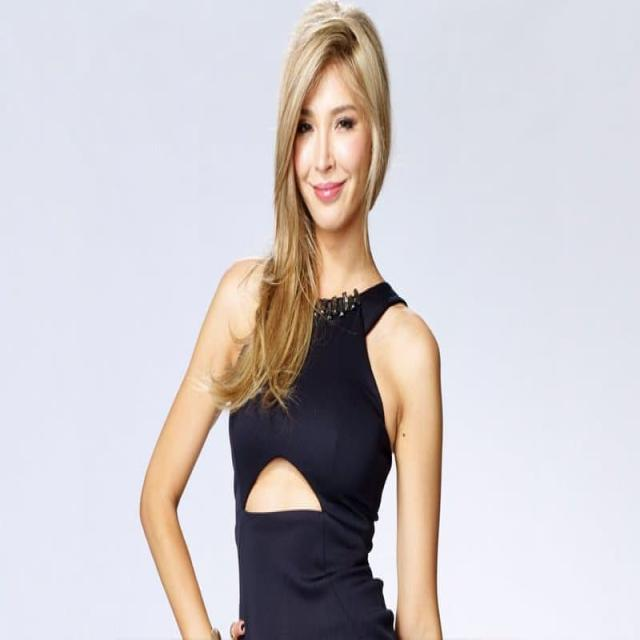mobile_phonerotation: (138, 1, 446, 638)
